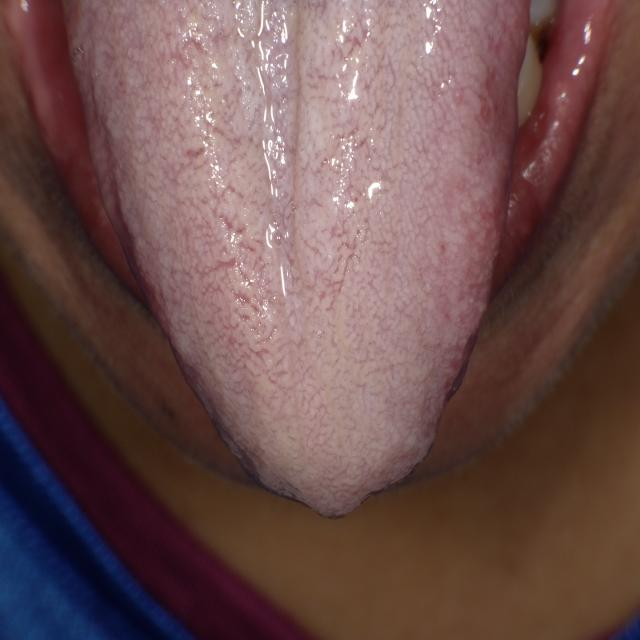baitaishe: (65, 1, 533, 517)
chihenshe: (177, 352, 316, 509), (433, 311, 487, 441)
huangtaishe: (65, 1, 533, 517)
huataishe: (180, 3, 443, 296)
liewenshe: (287, 1, 303, 294)
